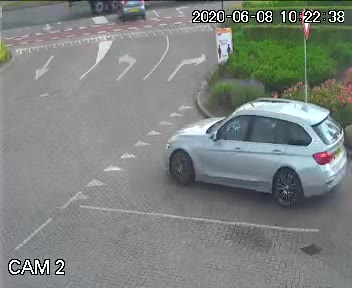car: (142, 80, 352, 218), (116, 0, 150, 27)
